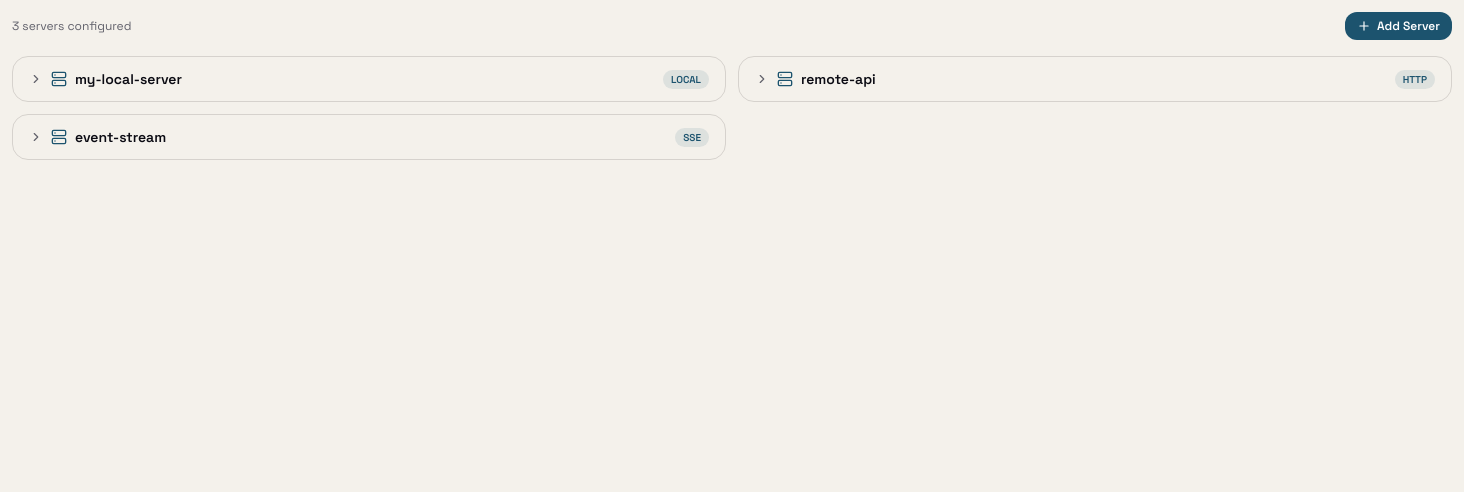
Test case: McpEditorPanel › shows discovered tool count badges on server cards
Expand all three server cards
Click the text "my-local-server" at [128, 79], box [75,69,182,89]
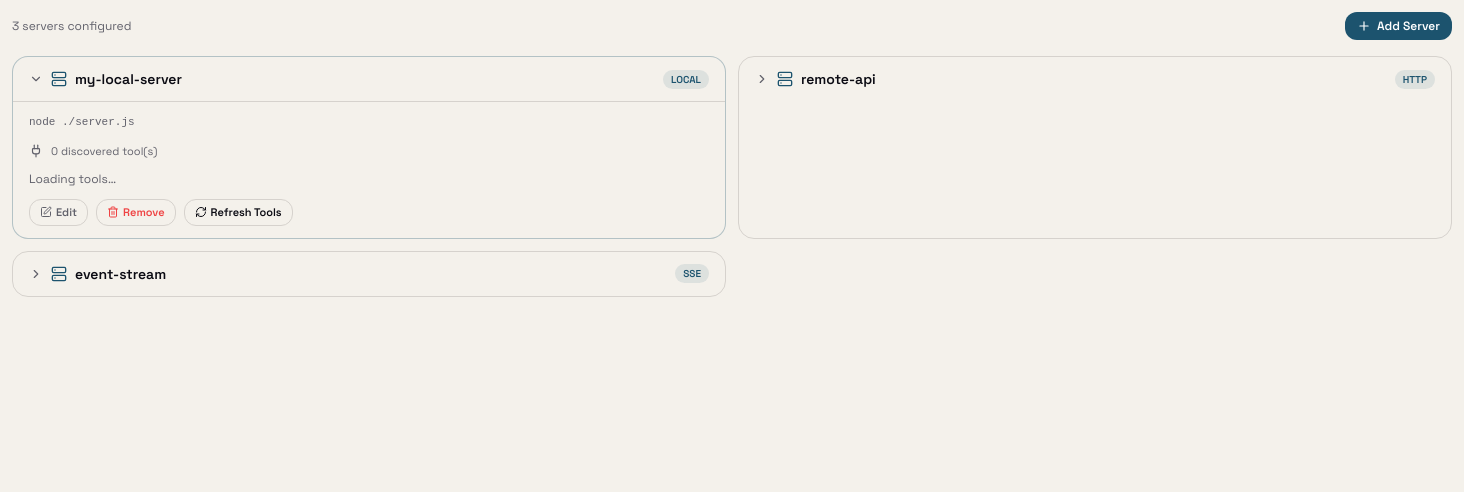
Click the text "remote-api" at [838, 79], box [801,69,876,89]
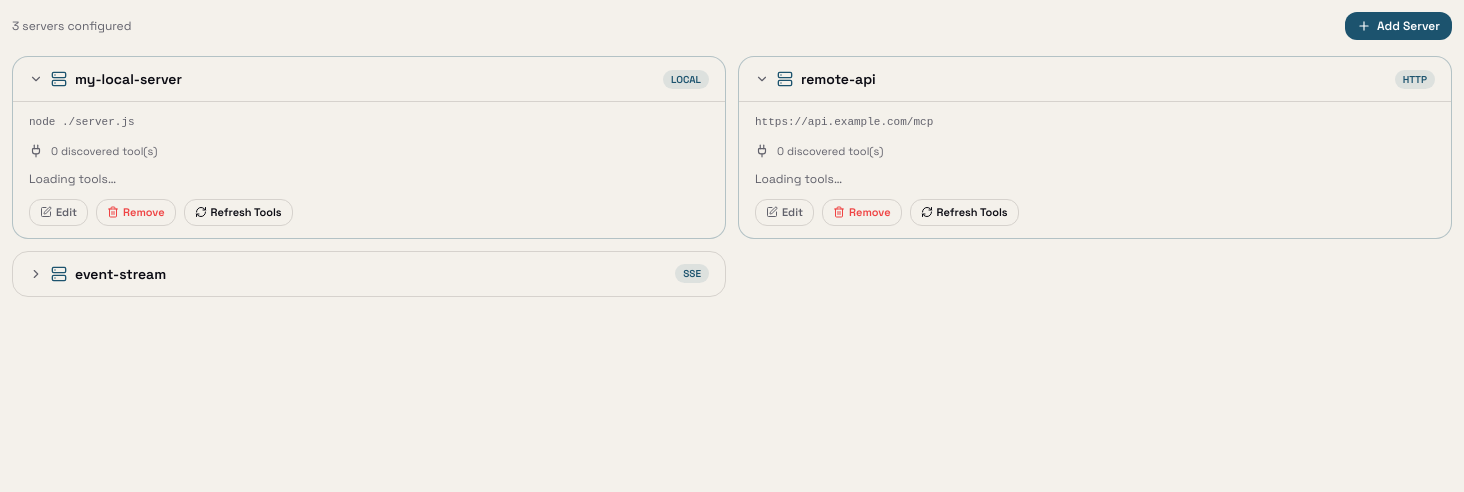
Click the text "event-stream" at [121, 274], box [75,264,166,284]
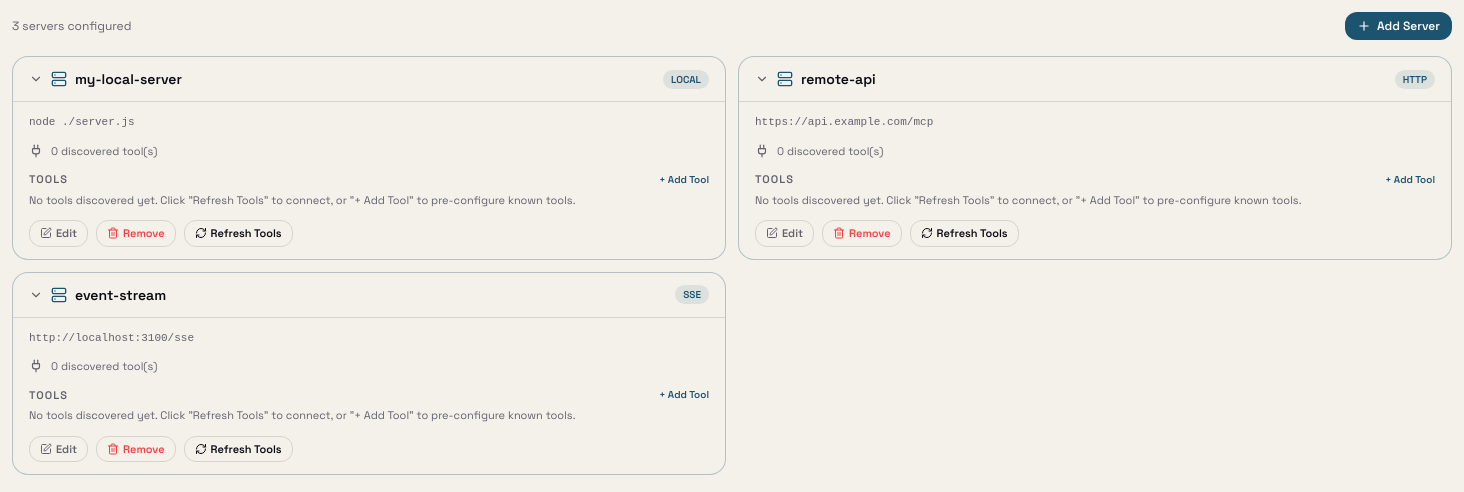
Now the text "0 discovered tool(s)" is shown 3 times, box [51,142,157,159]; [777,142,883,159]; [51,358,157,374]
